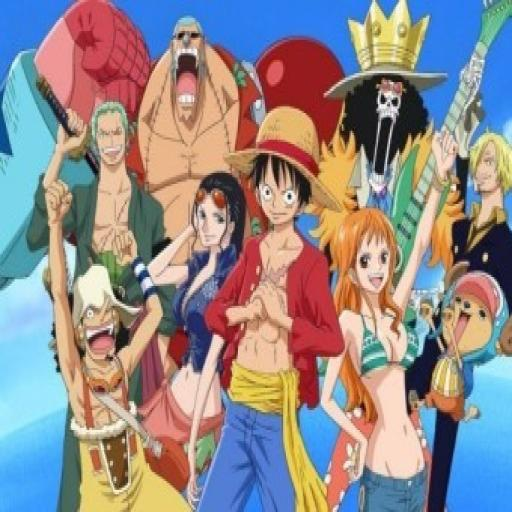Luffy: (246, 102, 335, 233)
Nami: (333, 204, 410, 302)
NicoRobin: (182, 166, 248, 269)
Usopp: (63, 257, 132, 372)
Zoro: (80, 95, 136, 172)
sanji: (460, 131, 512, 204)
